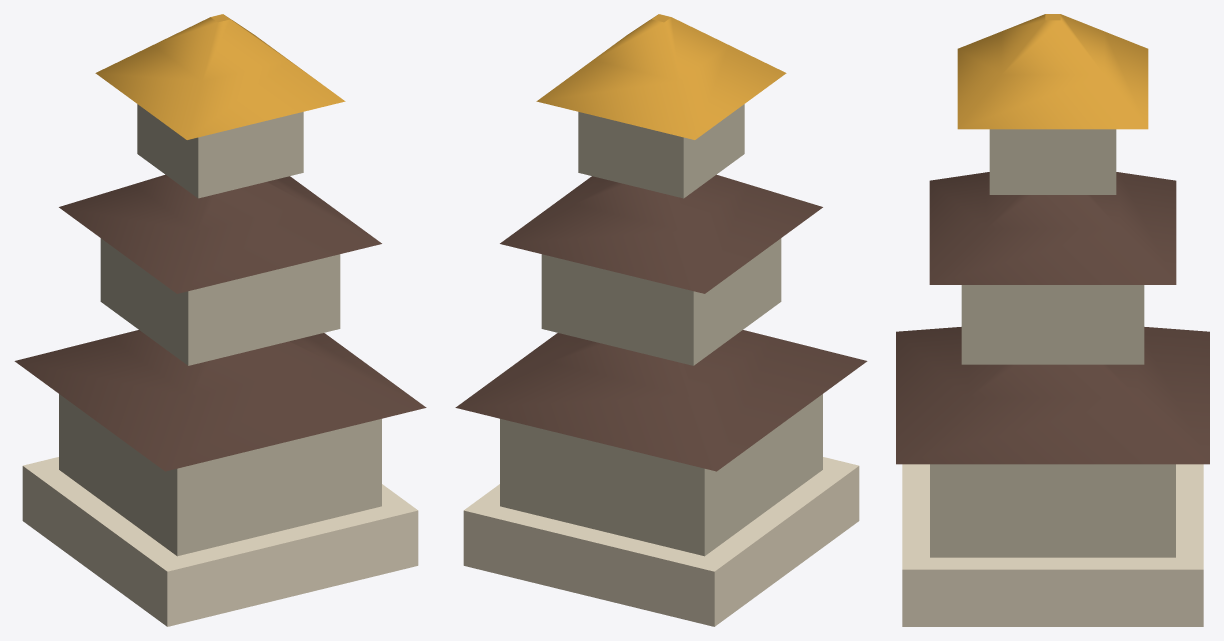
File: cang_jing_ge.glb
3 views of the same model, side by side, from view 1: azimuth 30°, elevation 25°; view 2: azimuth 150°, elevation 25°; view 3: azimuth 270°, elevation 25° (orthographic). The views are drawn at different scales.
Parts seen in each view (by area): view 1: _MeshInstance3D_74, _MeshInstance3D_72, _MeshInstance3D_73, _MeshInstance3D_76, _MeshInstance3D_75, _MeshInstance3D_78, _MeshInstance3D_77; view 2: _MeshInstance3D_74, _MeshInstance3D_72, _MeshInstance3D_73, _MeshInstance3D_76, _MeshInstance3D_75, _MeshInstance3D_78, _MeshInstance3D_77; view 3: _MeshInstance3D_74, _MeshInstance3D_72, _MeshInstance3D_76, _MeshInstance3D_73, _MeshInstance3D_78, _MeshInstance3D_75, _MeshInstance3D_77.
Part boxes in pixels (x1,y1,x2,y2): _MeshInstance3D_74: (14,330,426,471); _MeshInstance3D_72: (22,457,418,626); _MeshInstance3D_73: (59,394,381,556); _MeshInstance3D_76: (59,174,381,293); _MeshInstance3D_75: (100,238,340,365); _MeshInstance3D_78: (95,14,345,139); _MeshInstance3D_77: (137,104,303,198); _MeshInstance3D_74: (455,330,867,471); _MeshInstance3D_72: (463,457,859,626); _MeshInstance3D_73: (500,394,822,556); _MeshInstance3D_76: (500,174,822,293); _MeshInstance3D_75: (541,238,781,365); _MeshInstance3D_78: (536,14,786,139); _MeshInstance3D_77: (578,104,744,198); _MeshInstance3D_74: (896,327,1209,464); _MeshInstance3D_72: (902,464,1203,626); _MeshInstance3D_76: (929,172,1176,284); _MeshInstance3D_73: (930,464,1175,557); _MeshInstance3D_78: (957,14,1148,129); _MeshInstance3D_75: (961,285,1144,364); _MeshInstance3D_77: (989,129,1116,194).
Size of the model in its own units: 0.792 by 1.52 by 0.792.
